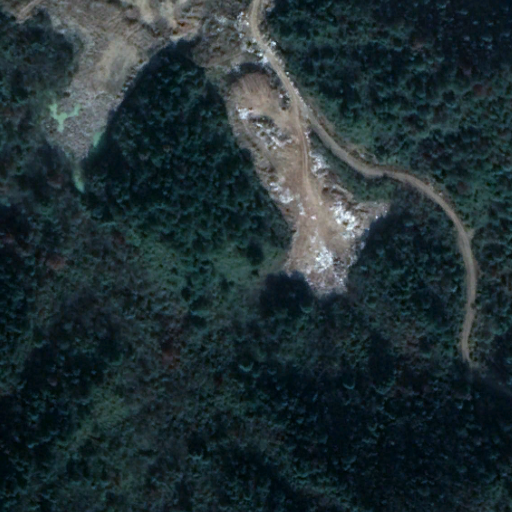msw: (242, 109, 380, 300)
